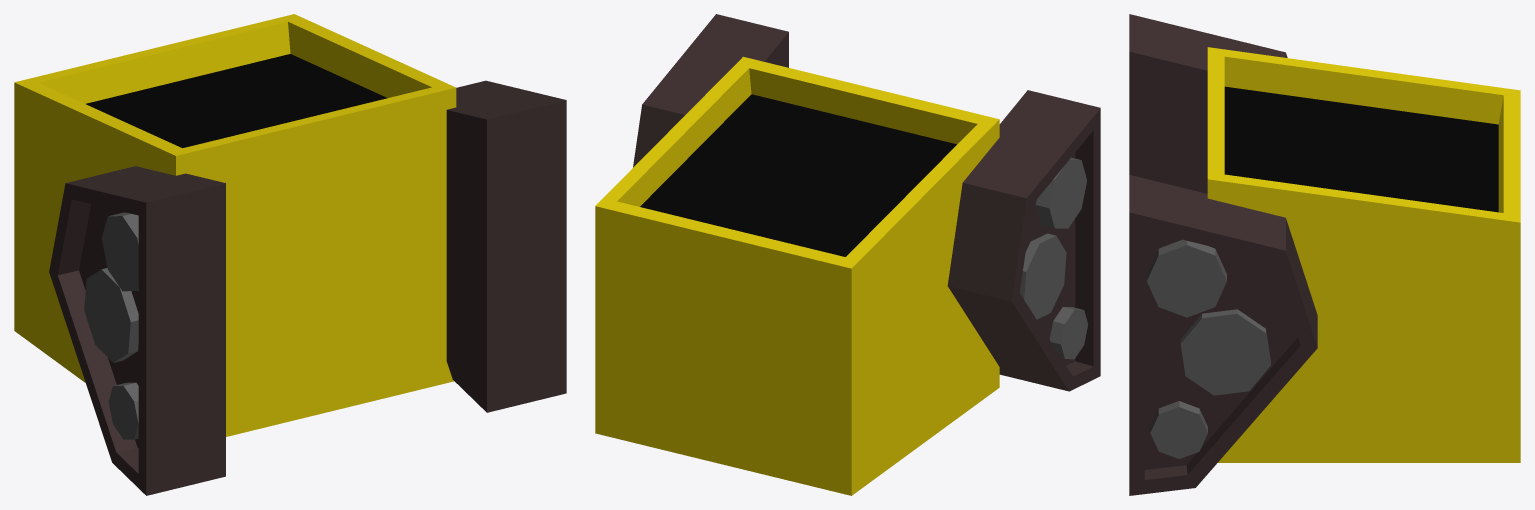
Rendered from bot.fbx.
3 views of the same model, side by side, from view 1: azimuth 30°, elevation 25°; view 2: azimuth 150°, elevation 25°; view 3: azimuth 270°, elevation 25° (orthographic). The views are drawn at different scales.
Visible parts, largest first — view 1: Cube; view 2: Cube; view 3: Cube.
Boxes of the visible parts, x1,y1,x2,y2 form: Cube: [14, 14, 566, 495]; Cube: [595, 14, 1100, 495]; Cube: [1129, 14, 1520, 495].
Size of the model in its own units: 300 by 200 by 250.
